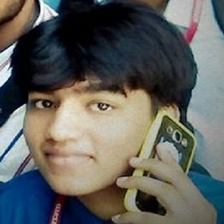no_mask: (22, 87, 153, 194)
